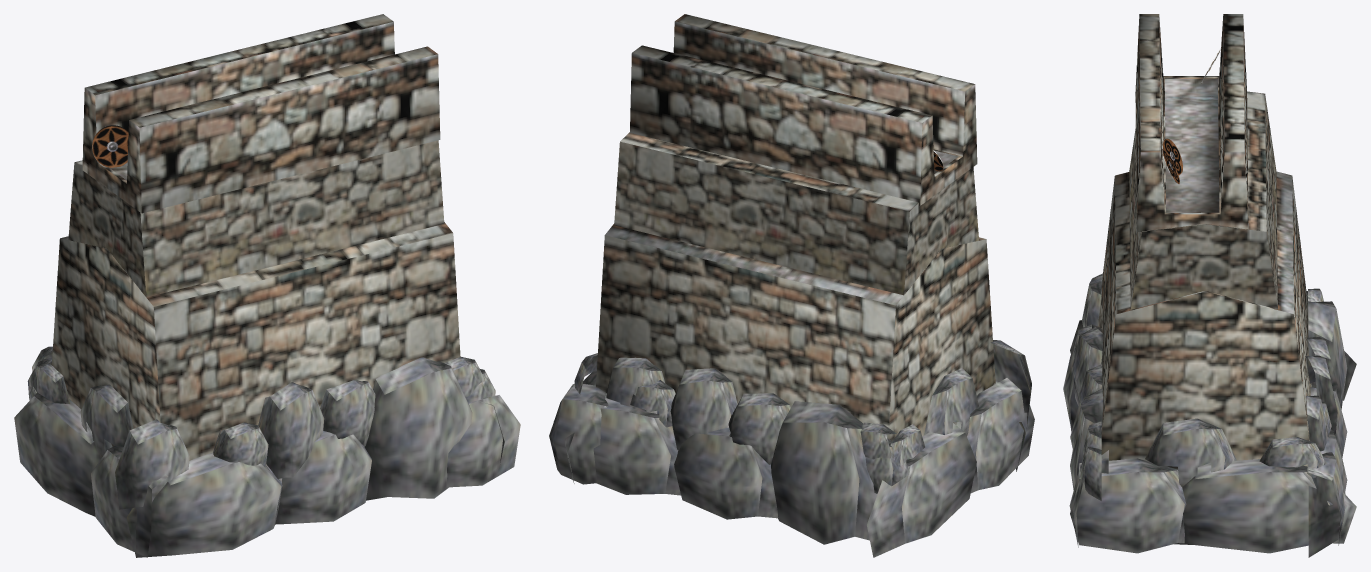
The model's file is lusi_wall_short.dae.
3 renders of one model, left to right at view 1: azimuth 30°, elevation 25°; view 2: azimuth 150°, elevation 25°; view 3: azimuth 270°, elevation 25°, orthographic. The views are drawn at different scales.
Visible parts, largest first — view 1: wall_short; view 2: wall_short; view 3: wall_short.
Part boxes in pixels (x1,y1,x2,y2): wall_short: [14, 14, 520, 557]; wall_short: [549, 14, 1034, 557]; wall_short: [1063, 14, 1356, 557].
Bounding box in the file's own units: 20.68 × 14.27 × 20.91.
